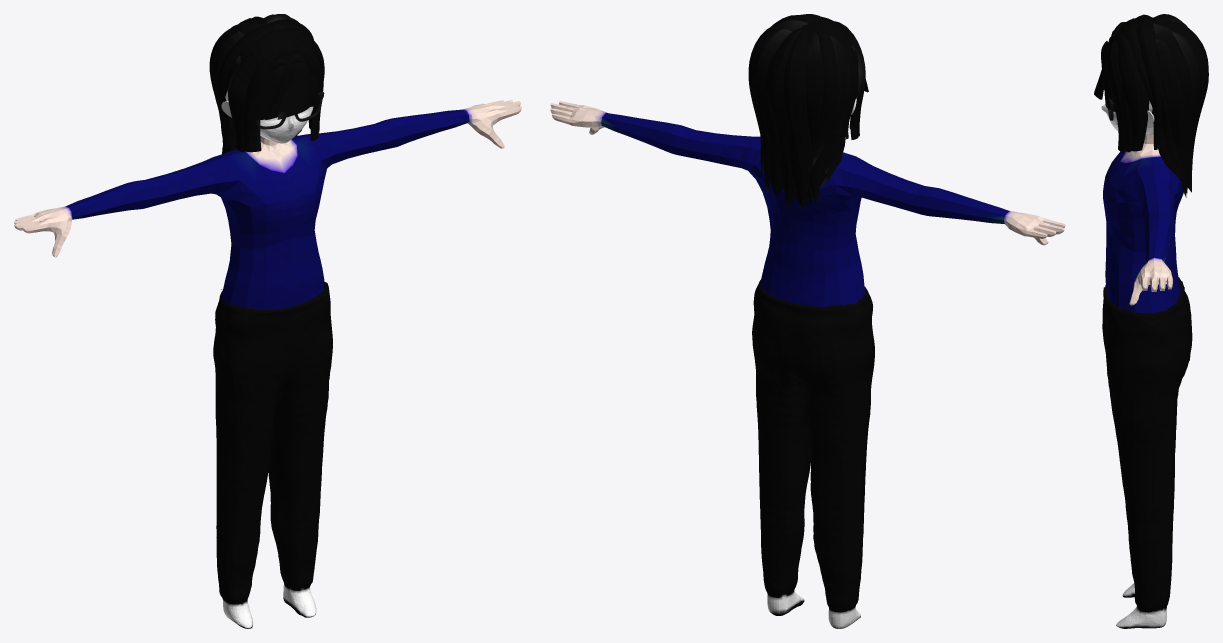
The model's file is josie_character_base.glb.
3 renders of one model, left to right at view 1: azimuth 30°, elevation 25°; view 2: azimuth 150°, elevation 25°; view 3: azimuth 270°, elevation 25°, orthographic.
Visible parts, largest first — view 1: world 1, Plane, Plane_002, Mesh 1 split, Plane_5, Plane_8 split 5, Plane_8 split 7, Plane_8 split 1, Plane_20; view 2: world 1, Plane, Plane_21, Plane_17, Plane_002, Plane_14, Plane_23, Plane_20, Plane_19, Plane_22; view 3: world 1, Plane, Plane_002, Plane_15, Plane_22, Plane_17, Plane_8 split 1, Plane_14, Plane_13, Plane_16, Plane_5, Plane_8 split 5 (+2 smaller).
Boxes of the visible parts, x1,y1,x2,y2 form: world 1: (213,281,332,628); Plane: (14,100,521,309); Plane_002: (219,19,324,152); Mesh 1 split: (243,53,281,151); Plane_5: (221,62,313,143); Plane_8 split 5: (277,61,310,119); Plane_8 split 7: (246,65,285,119); Plane_8 split 1: (295,44,323,140); Plane_20: (212,31,244,151); world 1: (752,280,874,628); Plane: (550,101,1065,306); Plane_21: (783,29,812,207); Plane_17: (766,27,803,206); Plane_002: (771,14,865,139); Plane_14: (752,29,792,195); Plane_23: (804,24,837,166); Plane_20: (809,35,849,203); Plane_19: (805,31,823,203); Plane_22: (749,20,807,146); world 1: (1102,277,1192,628); Plane: (1103,134,1183,313); Plane_002: (1112,14,1161,152); Plane_15: (1155,39,1186,197); Plane_22: (1153,23,1192,151); Plane_17: (1162,24,1208,192); Plane_8 split 1: (1107,40,1127,151); Plane_14: (1171,31,1201,193); Plane_13: (1136,56,1185,181); Plane_16: (1141,55,1181,170); Plane_5: (1101,52,1154,134); Plane_8 split 5: (1094,57,1107,99).
Size of what is drawn, in the model's own units: 2.42 by 2.7 by 0.4742.
36 materials, 2 textured.
